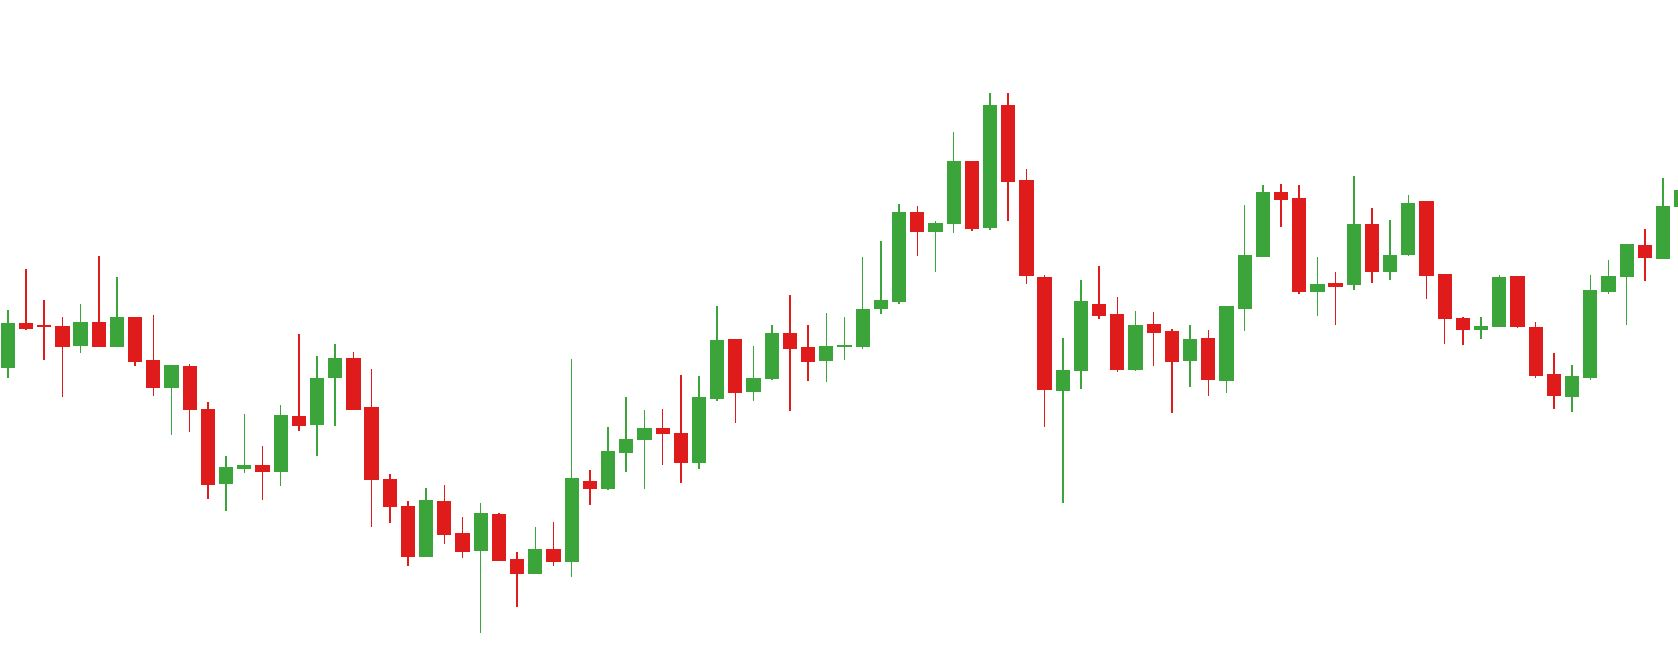buy: (784, 257, 1070, 505)
